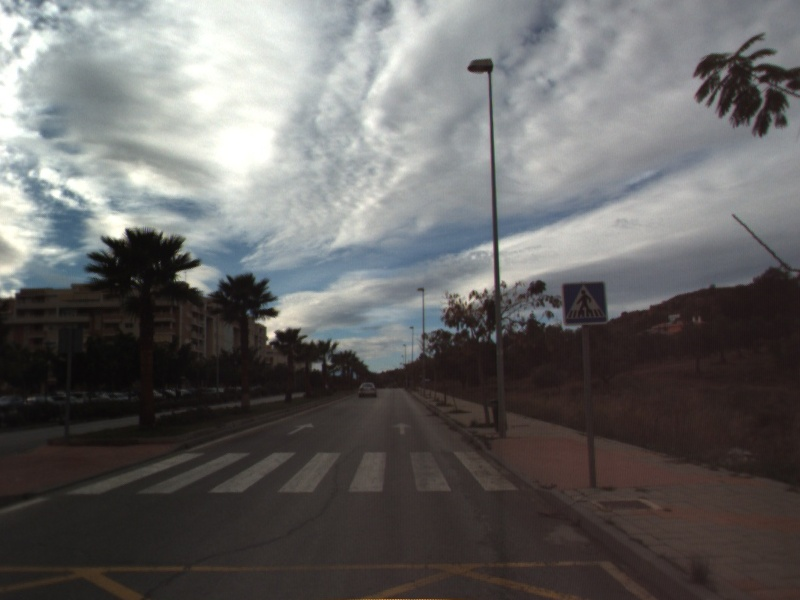STRAIGHT: (286, 421, 316, 436), (391, 420, 414, 436)
